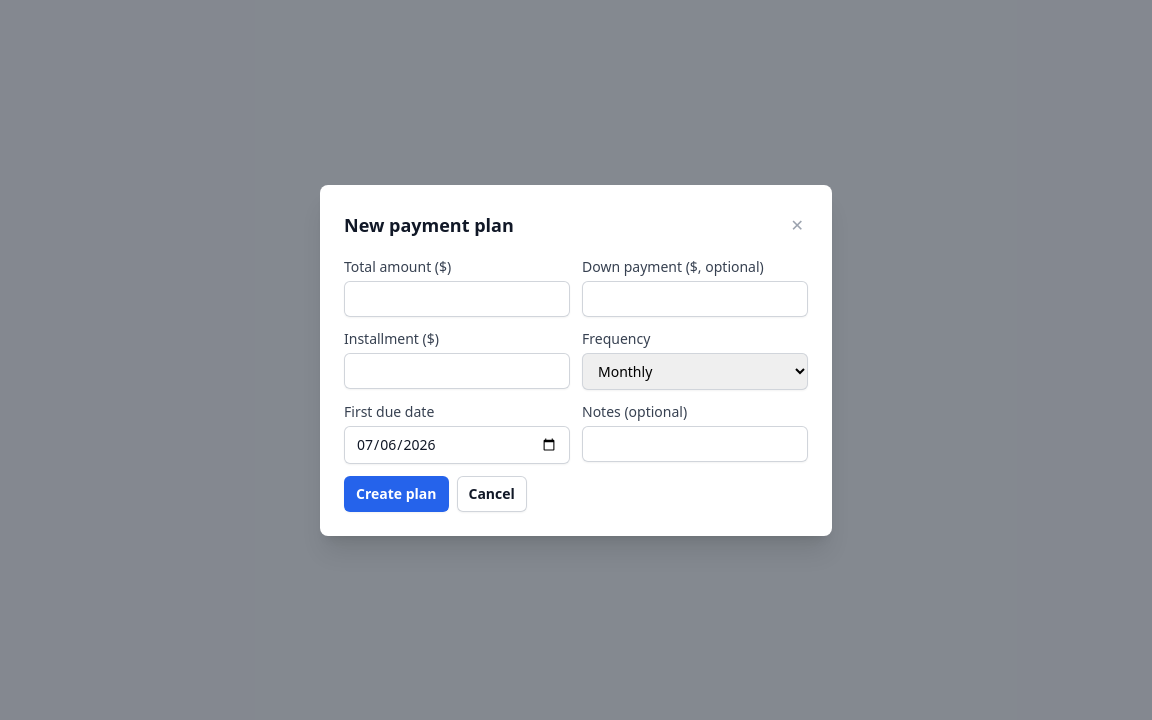
Test case: PaymentPlanModal › rejects a down payment that covers the whole total
Type "500" into the number field labelled "Total amount ($)" at (457, 298), box [344,280,570,316]
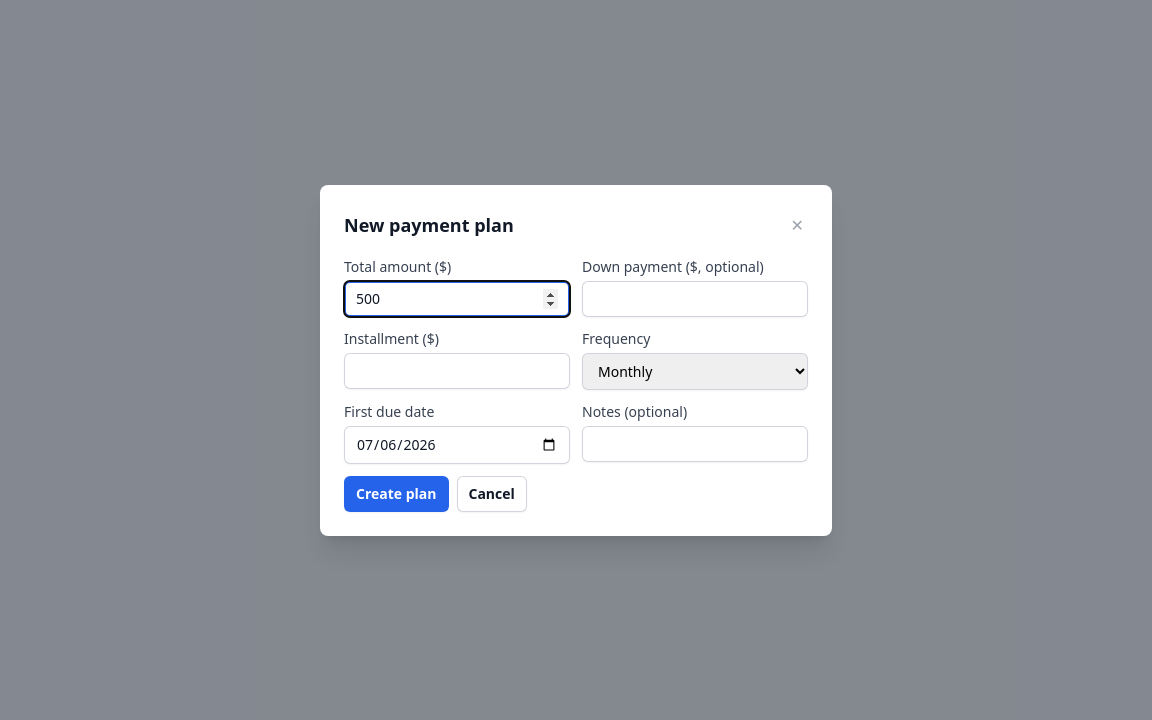
Type "500" into the number field labelled "Down payment ($, optional)" at (695, 298), box [582,280,808,316]
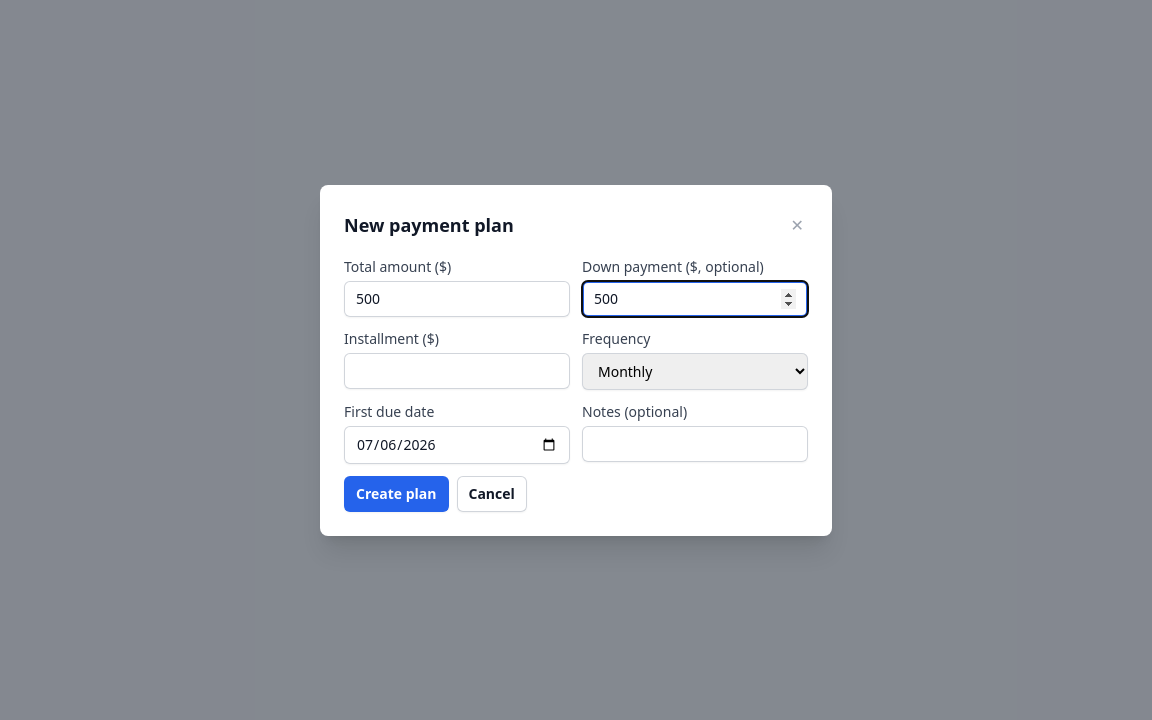
Type "100" into the number field labelled "Installment ($)" at (457, 370), box [344,352,570,388]
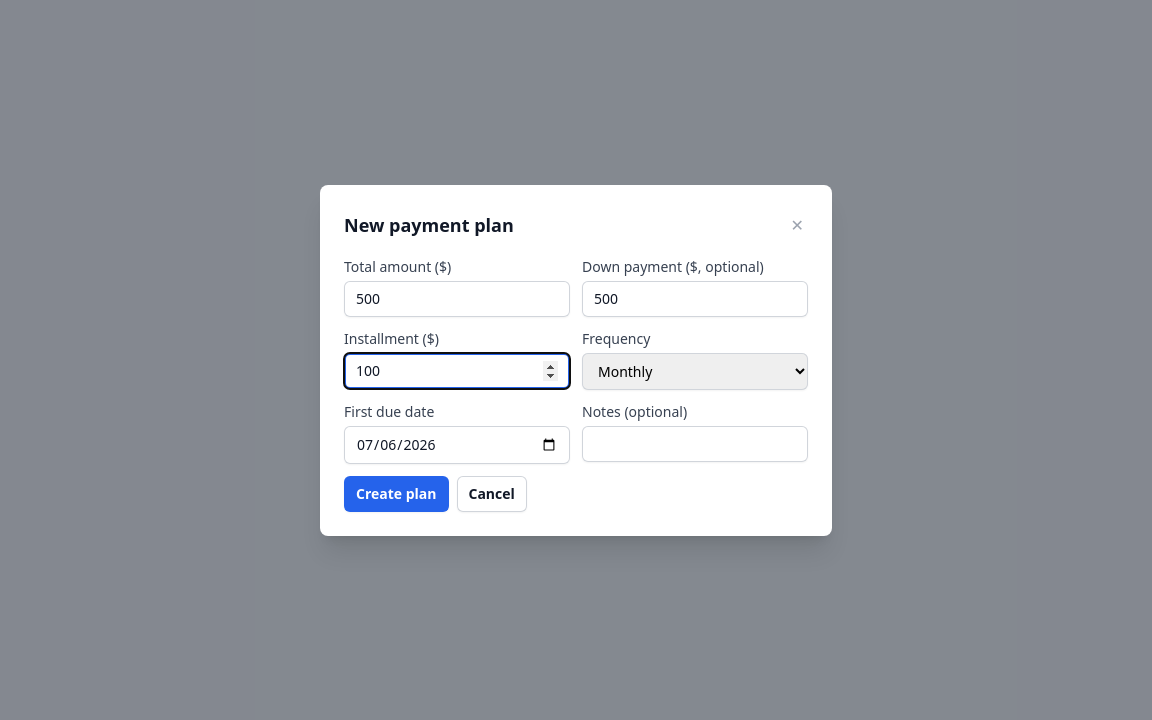
Click the button "Create plan" at (396, 494), box [344,476,448,512]
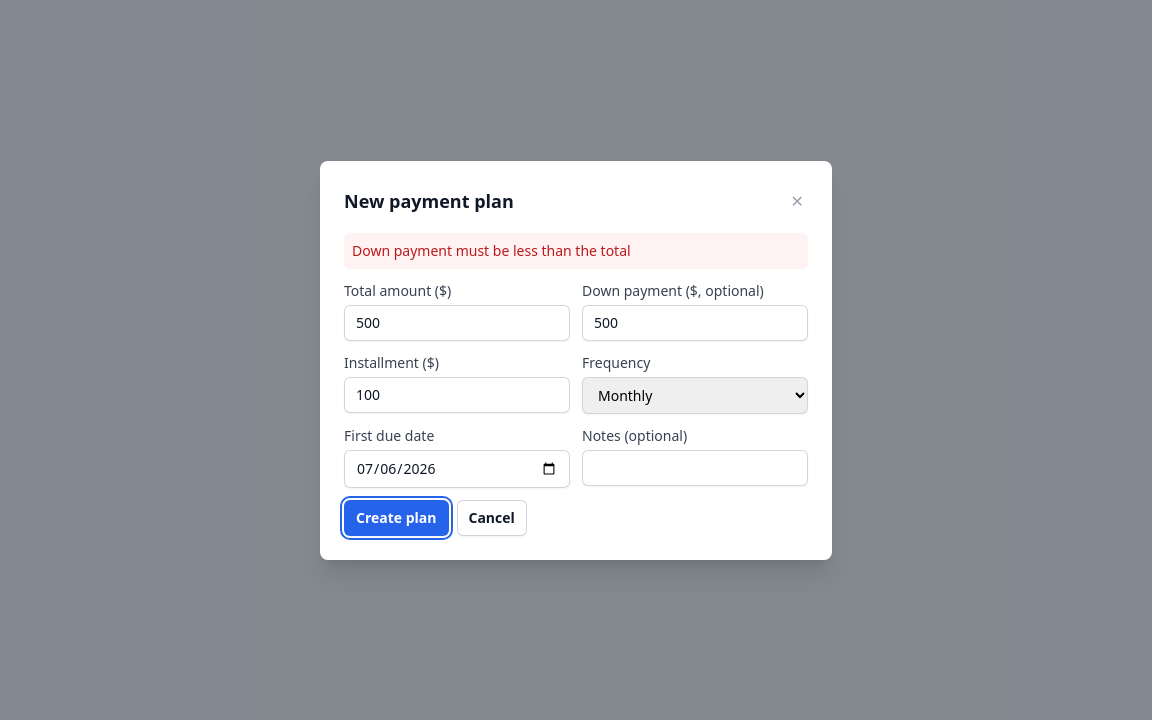
expect the message reads "Down payment must be less than the total": met, box [352,240,631,260]
